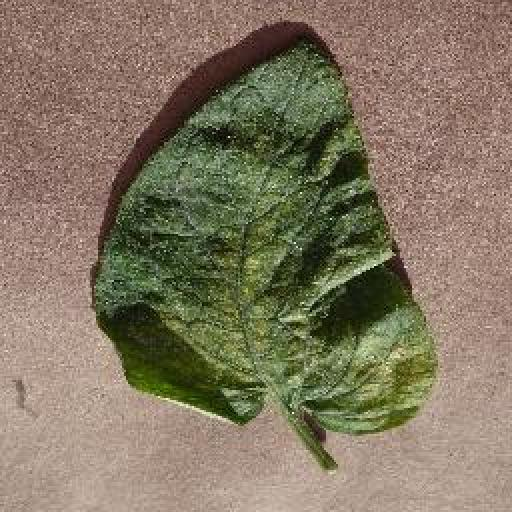Spider Mites: (89, 39, 435, 437)
